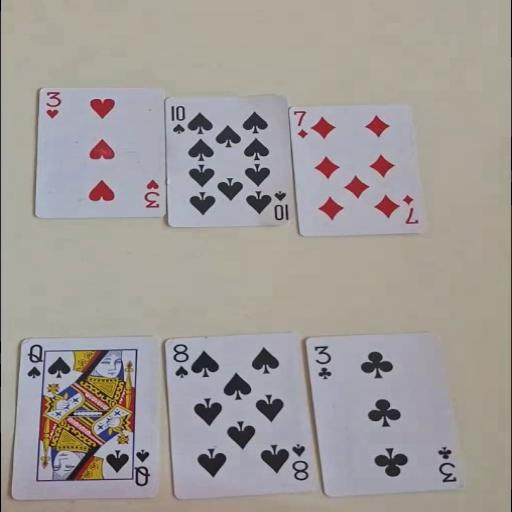10: (271, 189, 290, 221), (170, 103, 188, 135)
3: (435, 444, 458, 483), (311, 344, 333, 380), (141, 177, 161, 209), (43, 90, 62, 120)
7: (400, 192, 420, 225), (291, 108, 309, 139)
8: (289, 441, 310, 482), (170, 342, 190, 378)
Q: (131, 447, 151, 487), (25, 342, 44, 380)
